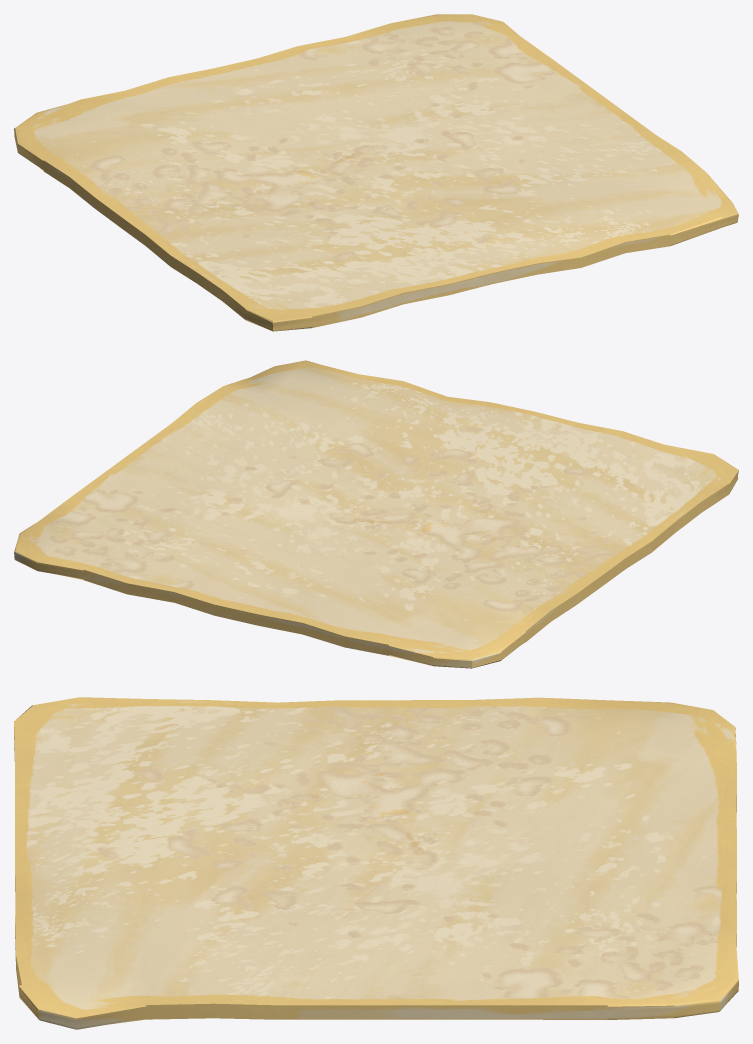
File: kasar-slice.fbx
3 renders of one model, top to bottom at view 1: azimuth 30°, elevation 25°; view 2: azimuth 150°, elevation 25°; view 3: azimuth 270°, elevation 25°, orthographic. The views are drawn at different scales.
Parts seen in each view (by area): view 1: Cube; view 2: Cube; view 3: Cube.
Part boxes in pixels (bbox=[...]): Cube: bbox=[14, 14, 738, 331]; Cube: bbox=[14, 360, 738, 668]; Cube: bbox=[14, 697, 738, 1029].
Size of the model in its own units: 8.01 by 0.3838 by 7.99.
